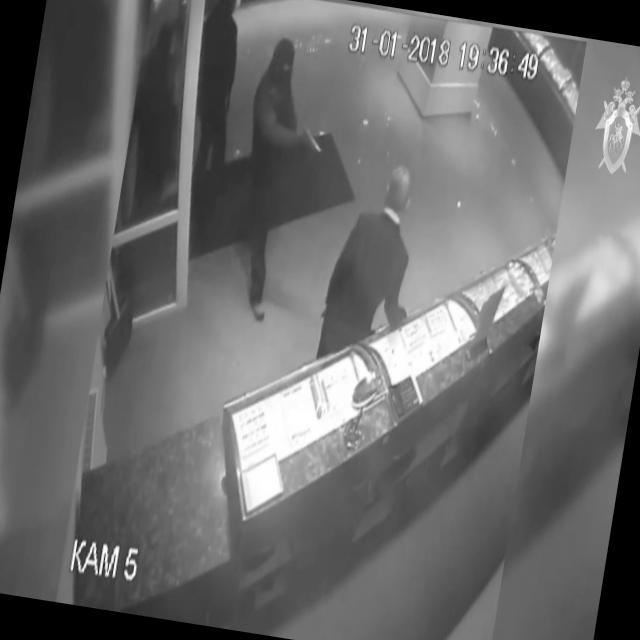gun: (298, 126, 324, 158)
person: (326, 154, 424, 339)
person with a gun: (220, 36, 338, 327)
